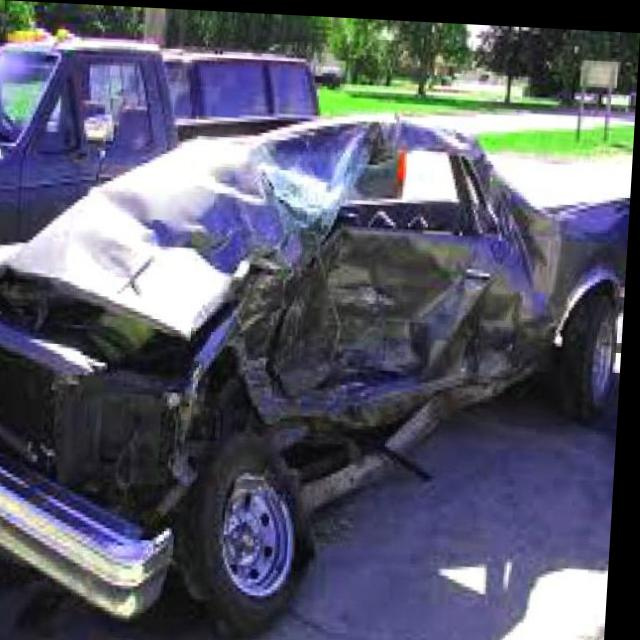Car-Damage: (0, 95, 594, 581)
